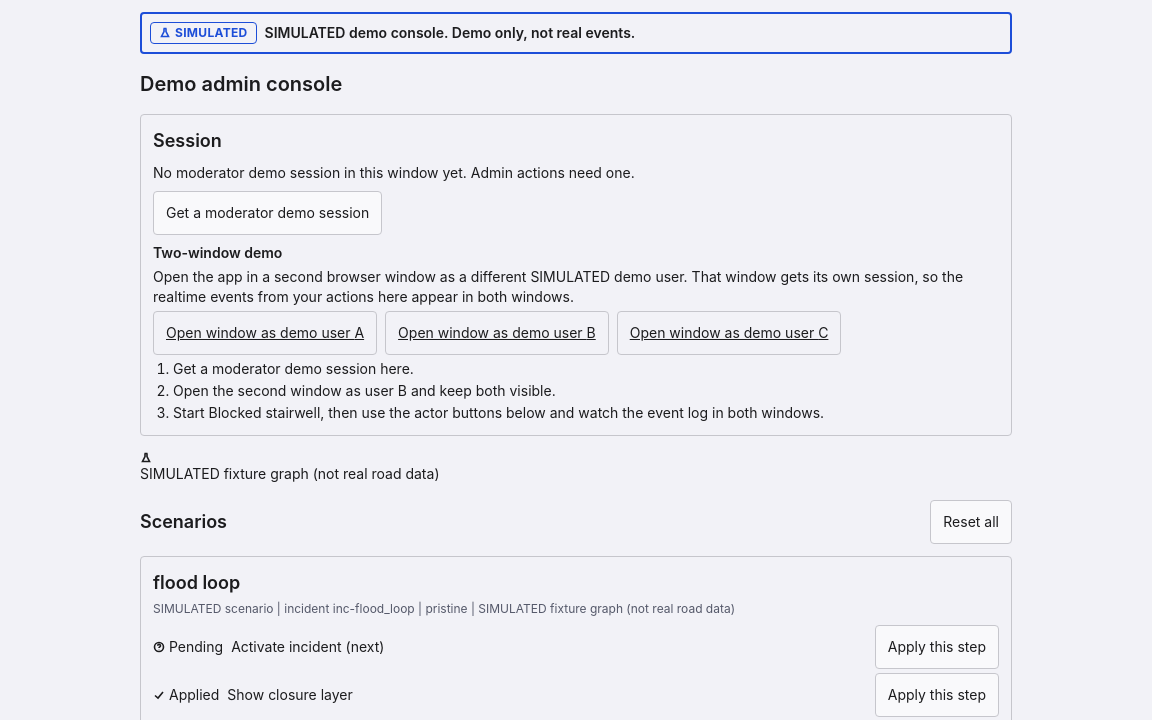
DemoAdmin session and actors › requests a moderator session and shows who you are
Click the button "Get a moderator demo session".
click(268, 213)  # box [153,191,382,235]
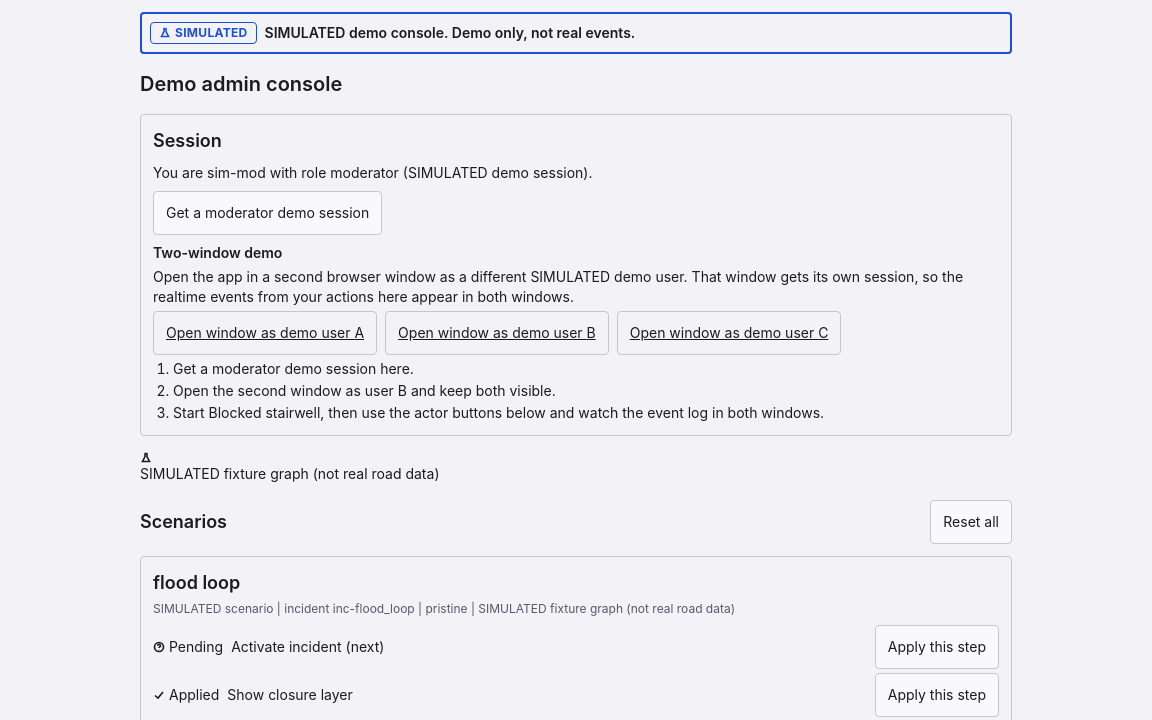
Check: the text with test id "session-identity" shows "sim-mod with role moderator", box [153,164,592,181]
